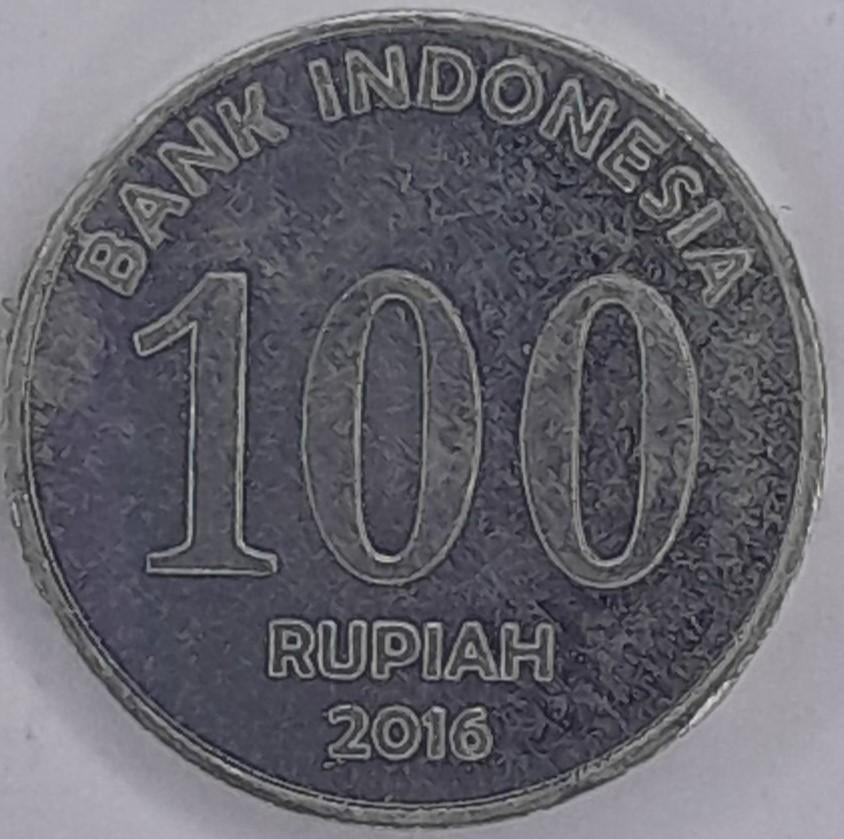coin_100_e2016: (0, 2, 833, 829)
